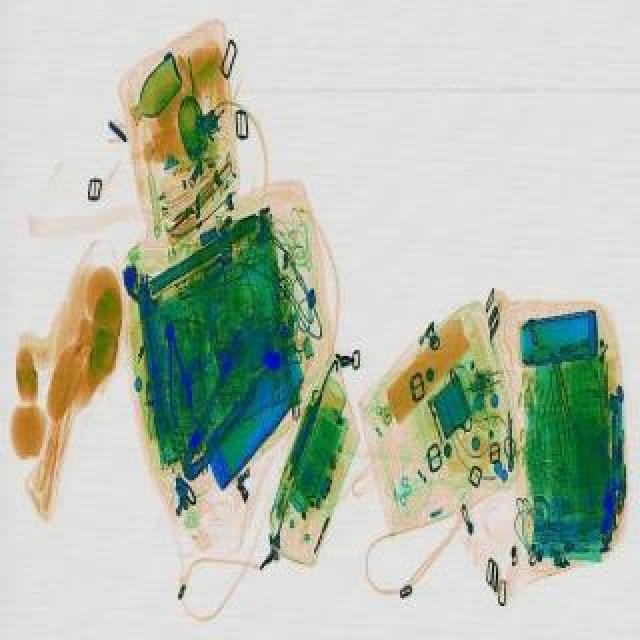wrench: (164, 328, 280, 484), (156, 318, 196, 424)
